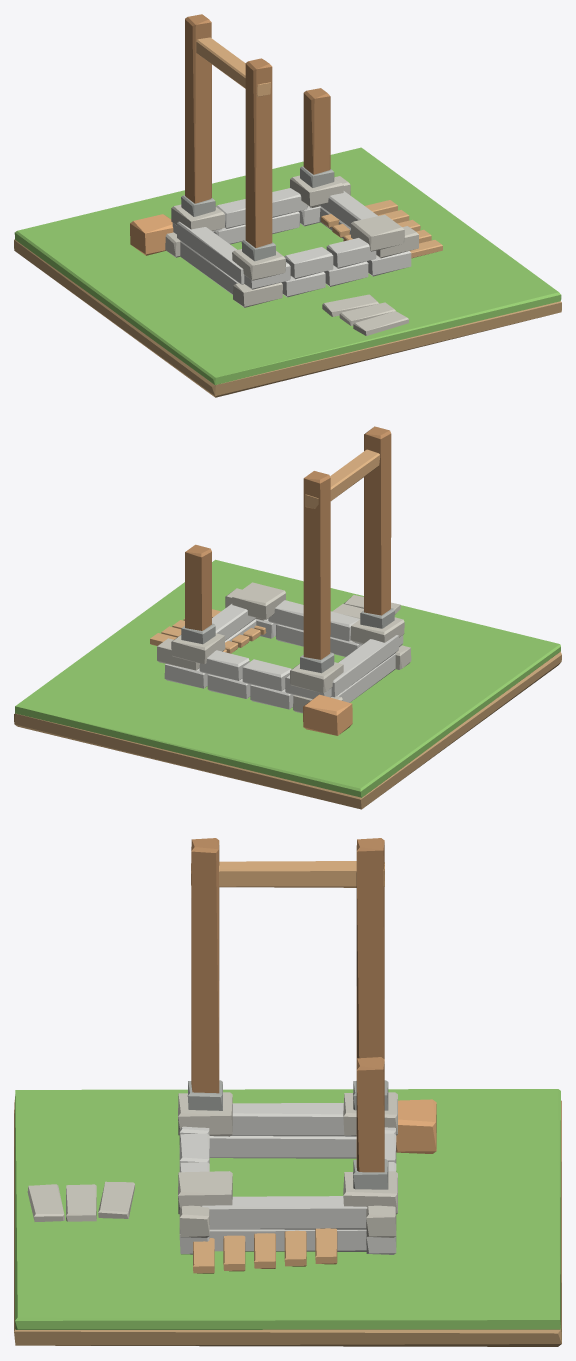
Rendered from tower_l03_construction_LOD1.glb.
The picture shows the model from 3 angles, top to bottom: view 1: azimuth 30°, elevation 25°; view 2: azimuth 150°, elevation 25°; view 3: azimuth 270°, elevation 25°; orthographic projection. The views are drawn at different scales.
Visible parts, largest first — view 1: tower_l03_grass_tile_tower_l03_construction_LOD1_tmp, tower_l03_earth_tile_tower_l03_construction_LOD1_tmp, post_-0.61_-0.54_tower_l03_construction_LOD1_tmp, post_-0.61_0.54_tower_l03_construction_LOD1_tmp, post_0.61_0.54_tower_l03_construction_LOD1_tmp, stone_return_1_-0.72_tower_l03_construction_LOD1_tmp, foot_0.61_-0.54_tower_l03_construction_LOD1_tmp, temporary_crossbar_tower_l03_construction_LOD1_tmp, unmounted_instrument_case_tower_l03_construction_LOD1_tmp, stone_course_1_-1_1_tower_l03_construction_LOD1_tmp, foot_-0.61_-0.54_tower_l03_construction_LOD1_tmp, stone_course_1_-1_2_tower_l03_construction_LOD1_tmp (+20 smaller); view 2: tower_l03_grass_tile_tower_l03_construction_LOD1_tmp, tower_l03_earth_tile_tower_l03_construction_LOD1_tmp, post_-0.61_0.54_tower_l03_construction_LOD1_tmp, post_-0.61_-0.54_tower_l03_construction_LOD1_tmp, post_0.61_0.54_tower_l03_construction_LOD1_tmp, stone_return_1_-0.72_tower_l03_construction_LOD1_tmp, unmounted_instrument_case_tower_l03_construction_LOD1_tmp, temporary_crossbar_tower_l03_construction_LOD1_tmp, foot_0.61_-0.54_tower_l03_construction_LOD1_tmp, stone_course_1_1_1_tower_l03_construction_LOD1_tmp, foot_0.61_0.54_tower_l03_construction_LOD1_tmp, foot_-0.61_0.54_tower_l03_construction_LOD1_tmp (+13 smaller); view 3: tower_l03_grass_tile_tower_l03_construction_LOD1_tmp, tower_l03_earth_tile_tower_l03_construction_LOD1_tmp, post_-0.61_-0.54_tower_l03_construction_LOD1_tmp, post_-0.61_0.54_tower_l03_construction_LOD1_tmp, stone_return_1_0.72_tower_l03_construction_LOD1_tmp, stone_return_1_-0.72_tower_l03_construction_LOD1_tmp, temporary_crossbar_tower_l03_construction_LOD1_tmp, stone_return_0_-0.72_tower_l03_construction_LOD1_tmp, post_0.61_0.54_tower_l03_construction_LOD1_tmp, unmounted_instrument_case_tower_l03_construction_LOD1_tmp, foot_0.61_-0.54_tower_l03_construction_LOD1_tmp, stone_return_0_0.72_tower_l03_construction_LOD1_tmp (+16 smaller).
Part boxes in pixels (bbox=[...]): tower_l03_grass_tile_tower_l03_construction_LOD1_tmp: bbox=[14, 147, 561, 385]; tower_l03_earth_tile_tower_l03_construction_LOD1_tmp: bbox=[14, 239, 561, 397]; post_-0.61_-0.54_tower_l03_construction_LOD1_tmp: bbox=[245, 58, 272, 247]; post_-0.61_0.54_tower_l03_construction_LOD1_tmp: bbox=[185, 14, 211, 203]; post_0.61_0.54_tower_l03_construction_LOD1_tmp: bbox=[303, 88, 330, 174]; stone_return_1_-0.72_tower_l03_construction_LOD1_tmp: bbox=[177, 221, 244, 284]; foot_0.61_-0.54_tower_l03_construction_LOD1_tmp: bbox=[351, 214, 404, 251]; temporary_crossbar_tower_l03_construction_LOD1_tmp: bbox=[196, 37, 270, 96]; unmounted_instrument_case_tower_l03_construction_LOD1_tmp: bbox=[130, 214, 173, 255]; stone_course_1_-1_1_tower_l03_construction_LOD1_tmp: bbox=[284, 247, 333, 279]; foot_-0.61_-0.54_tower_l03_construction_LOD1_tmp: bbox=[232, 249, 285, 280]; stone_course_1_-1_2_tower_l03_construction_LOD1_tmp: bbox=[326, 238, 376, 268]; tower_l03_grass_tile_tower_l03_construction_LOD1_tmp: bbox=[15, 559, 560, 798]; tower_l03_earth_tile_tower_l03_construction_LOD1_tmp: bbox=[14, 651, 561, 809]; post_-0.61_0.54_tower_l03_construction_LOD1_tmp: bbox=[303, 471, 330, 659]; post_-0.61_-0.54_tower_l03_construction_LOD1_tmp: bbox=[364, 426, 391, 615]; post_0.61_0.54_tower_l03_construction_LOD1_tmp: bbox=[185, 544, 211, 630]; stone_return_1_-0.72_tower_l03_construction_LOD1_tmp: bbox=[331, 635, 398, 697]; unmounted_instrument_case_tower_l03_construction_LOD1_tmp: bbox=[303, 694, 352, 735]; temporary_crossbar_tower_l03_construction_LOD1_tmp: bbox=[305, 449, 379, 508]; foot_0.61_-0.54_tower_l03_construction_LOD1_tmp: bbox=[232, 582, 285, 619]; stone_course_1_1_1_tower_l03_construction_LOD1_tmp: bbox=[242, 659, 291, 691]; foot_0.61_0.54_tower_l03_construction_LOD1_tmp: bbox=[171, 633, 225, 664]; foot_-0.61_0.54_tower_l03_construction_LOD1_tmp: bbox=[290, 662, 343, 693]; tower_l03_grass_tile_tower_l03_construction_LOD1_tmp: bbox=[15, 1089, 560, 1329]; tower_l03_earth_tile_tower_l03_construction_LOD1_tmp: bbox=[14, 1100, 561, 1346]; post_-0.61_-0.54_tower_l03_construction_LOD1_tmp: bbox=[191, 838, 219, 1093]; post_-0.61_0.54_tower_l03_construction_LOD1_tmp: bbox=[356, 838, 384, 1063]; stone_return_1_0.72_tower_l03_construction_LOD1_tmp: bbox=[201, 1196, 367, 1229]; stone_return_1_-0.72_tower_l03_construction_LOD1_tmp: bbox=[231, 1103, 356, 1136]; temporary_crossbar_tower_l03_construction_LOD1_tmp: bbox=[191, 861, 384, 887]; stone_return_0_-0.72_tower_l03_construction_LOD1_tmp: bbox=[209, 1136, 356, 1158]; post_0.61_0.54_tower_l03_construction_LOD1_tmp: bbox=[356, 1057, 384, 1172]; unmounted_instrument_case_tower_l03_construction_LOD1_tmp: bbox=[396, 1099, 436, 1153]; foot_0.61_-0.54_tower_l03_construction_LOD1_tmp: bbox=[178, 1171, 232, 1214]; stone_return_0_0.72_tower_l03_construction_LOD1_tmp: bbox=[209, 1229, 366, 1251].
Size of the model in its own units: 3.6 by 2.53 by 3.58.
